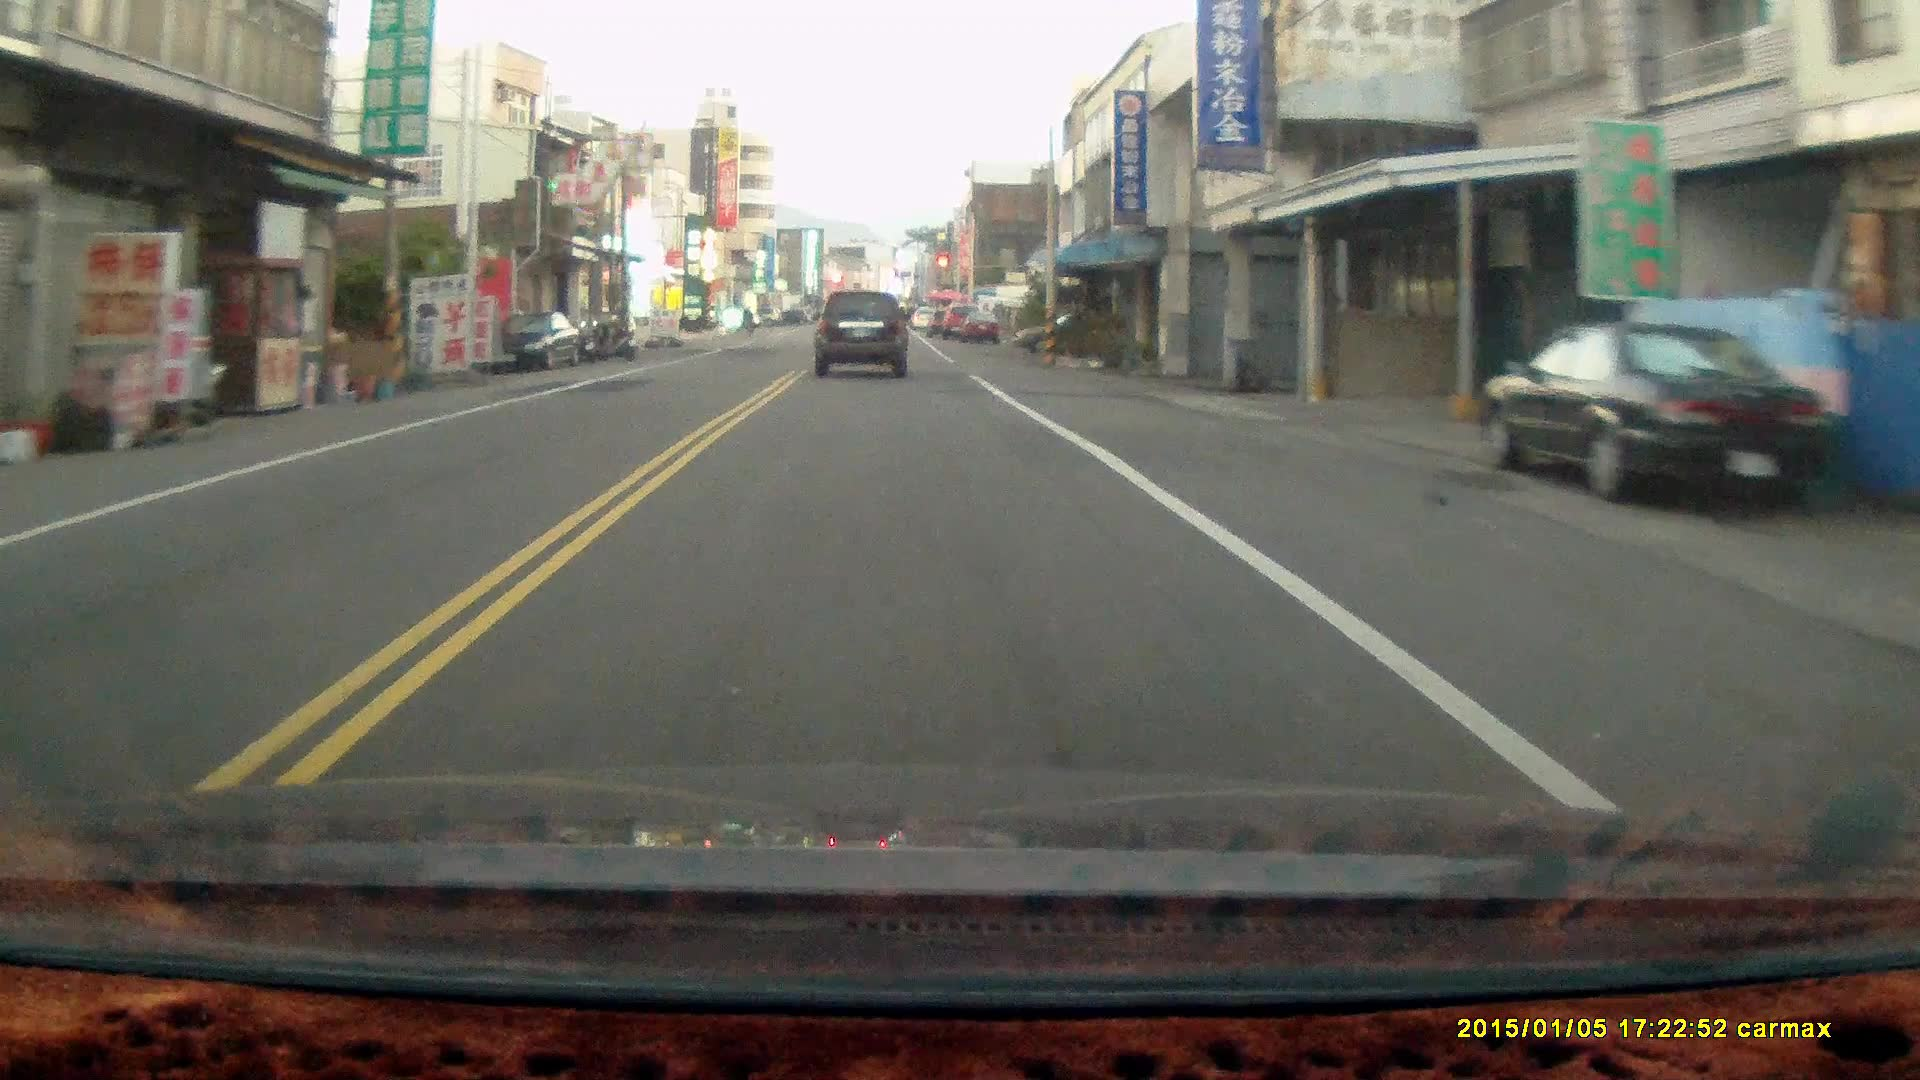vehicle: (1477, 316, 1853, 516), (814, 287, 910, 378)
